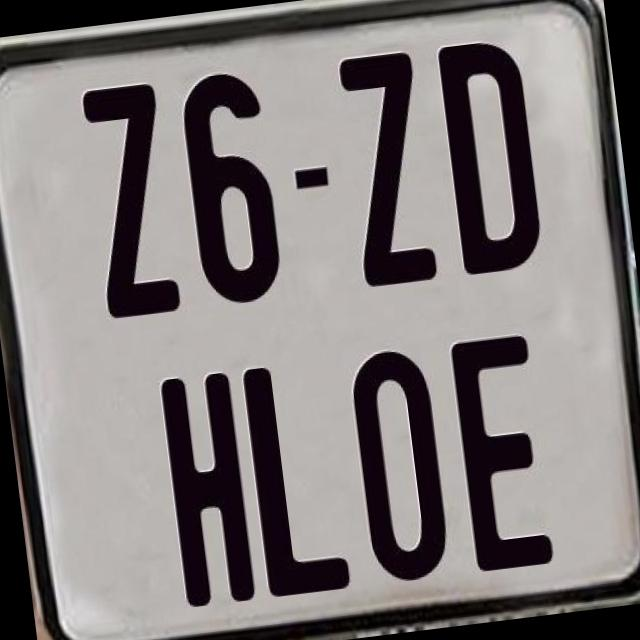0: (346, 346, 456, 590)
6: (176, 65, 286, 304)
D: (432, 35, 542, 274)
E: (448, 328, 554, 568)
H: (158, 370, 264, 610)
L: (240, 354, 358, 600)
Z: (334, 49, 438, 296), (80, 82, 186, 320)
